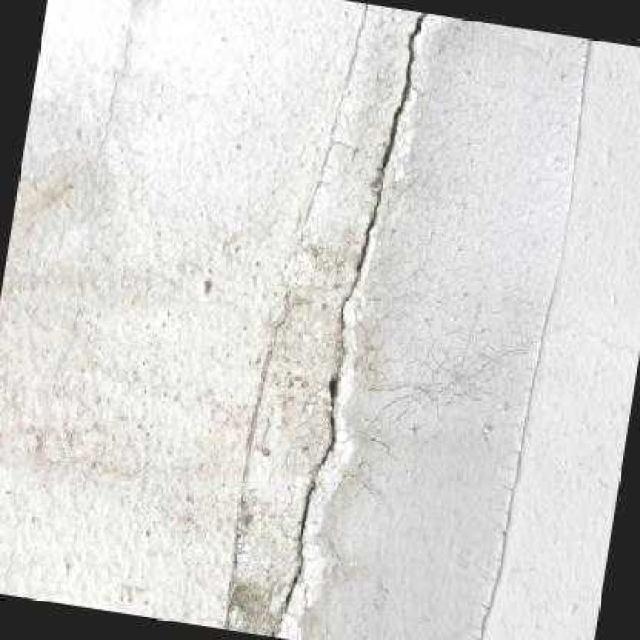D00: (269, 12, 427, 637)
